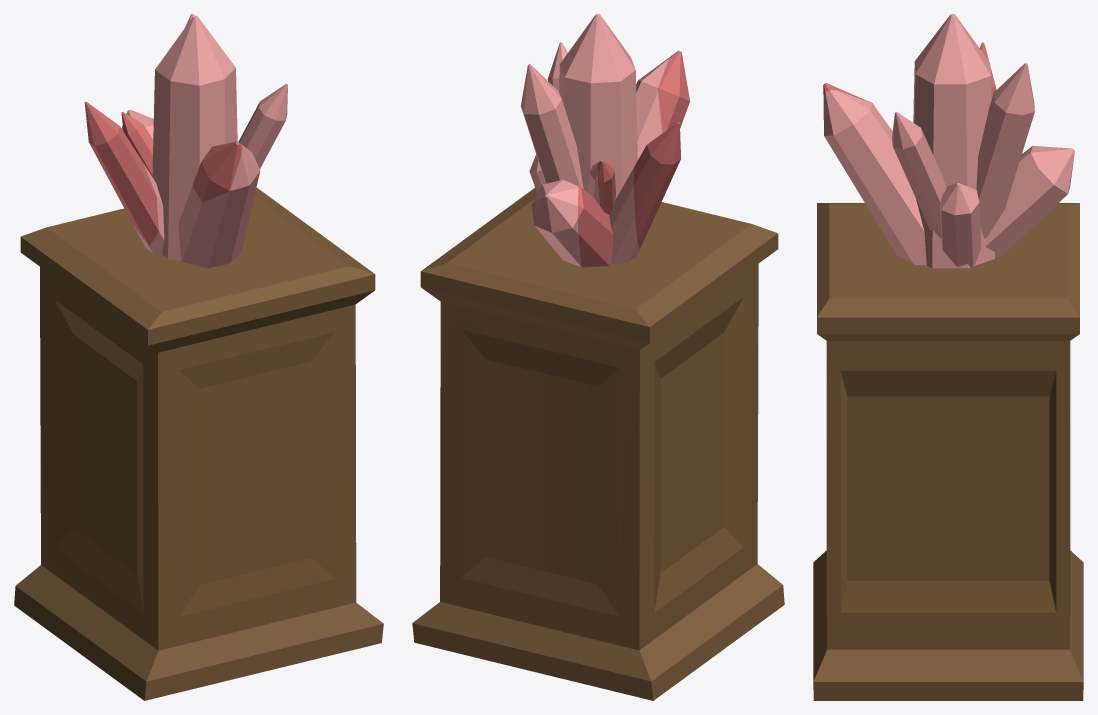
The model's file is gem 2 display.fbx.
3 views of the same model, side by side, from view 1: azimuth 30°, elevation 25°; view 2: azimuth 150°, elevation 25°; view 3: azimuth 270°, elevation 25° (orthographic). The views are drawn at different scales.
Parts seen in each view (by area): view 1: pCube43, pCube49, pCube51, pCube56, pCube54, pCube57; view 2: pCube43, pCube49, pCube50, pCube56, pCube53, pCube51, pCube57; view 3: pCube43, pCube49, pCube51, pCube53, pCube50, pCube54, pCube58.
Boxes of the visible parts, x1=… form: pCube43: x1=14, y1=187, x2=383, y2=700; pCube49: x1=152, y1=15, x2=237, y2=260; pCube51: x1=178, y1=141, x2=260, y2=268; pCube56: x1=84, y1=101, x2=164, y2=254; pCube54: x1=238, y1=83, x2=287, y2=169; pCube57: x1=121, y1=111, x2=153, y2=176; pCube43: x1=412, y1=188, x2=784, y2=700; pCube49: x1=559, y1=14, x2=637, y2=199; pCube50: x1=531, y1=179, x2=613, y2=267; pCube56: x1=609, y1=122, x2=681, y2=264; pCube53: x1=521, y1=64, x2=583, y2=188; pCube51: x1=636, y1=50, x2=689, y2=159; pCube57: x1=587, y1=161, x2=615, y2=214; pCube43: x1=813, y1=203, x2=1083, y2=700; pCube49: x1=913, y1=14, x2=994, y2=268; pCube51: x1=823, y1=83, x2=926, y2=265; pCube53: x1=976, y1=63, x2=1034, y2=238; pCube50: x1=985, y1=146, x2=1074, y2=257; pCube54: x1=892, y1=111, x2=946, y2=238; pCube58: x1=939, y1=183, x2=981, y2=267.
Bounding box in the file's own units: 1.86 × 4.5 × 1.76.
